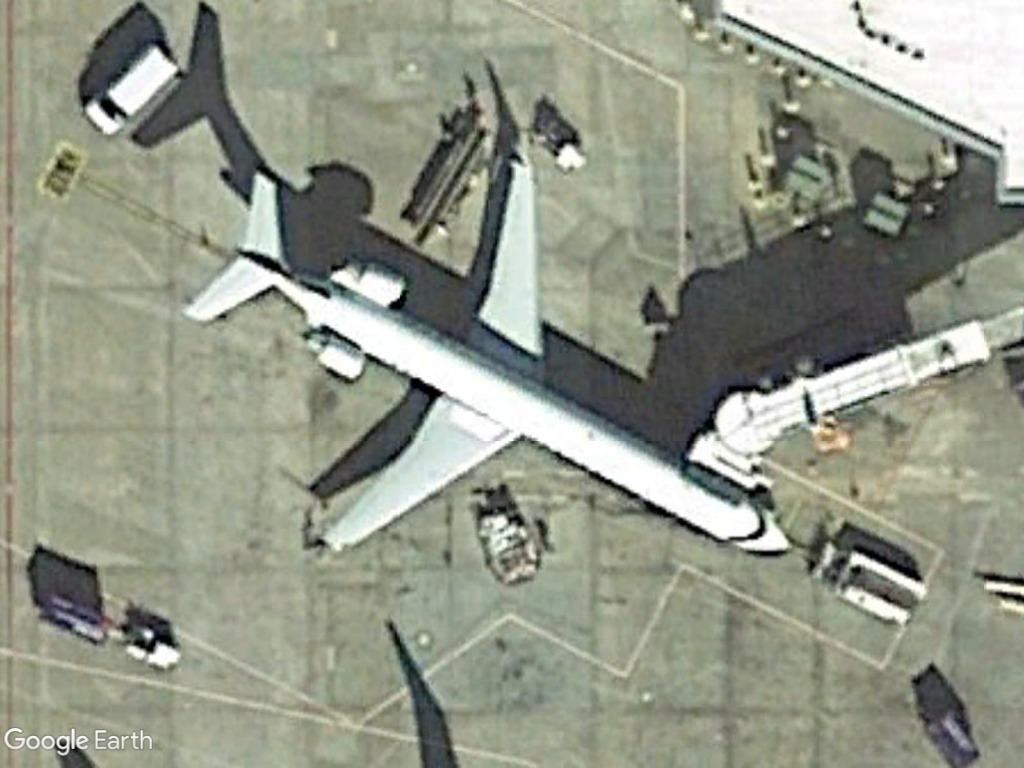chartered: (179, 137, 798, 564)
van: (82, 39, 186, 141)
